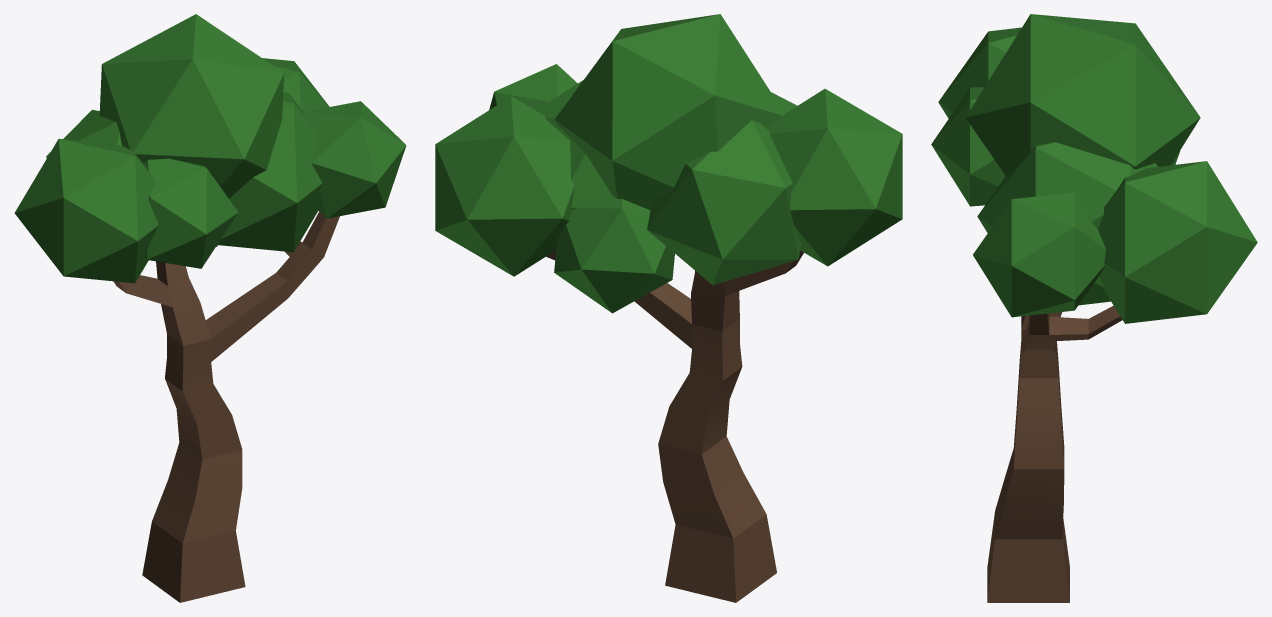
File: TreeBlockout.fbx
3 views of the same model, side by side, from view 1: azimuth 30°, elevation 25°; view 2: azimuth 150°, elevation 25°; view 3: azimuth 270°, elevation 25° (orthographic). The views are drawn at different scales.
Visible parts, largest first — view 1: TreeBlockout2; view 2: TreeBlockout2; view 3: TreeBlockout2.
Part boxes in pixels (x1,y1,x2,y2): TreeBlockout2: (14,14,406,602); TreeBlockout2: (435,14,902,602); TreeBlockout2: (931,14,1257,602).
Size of the model in its own units: 783 by 1066 by 553.
